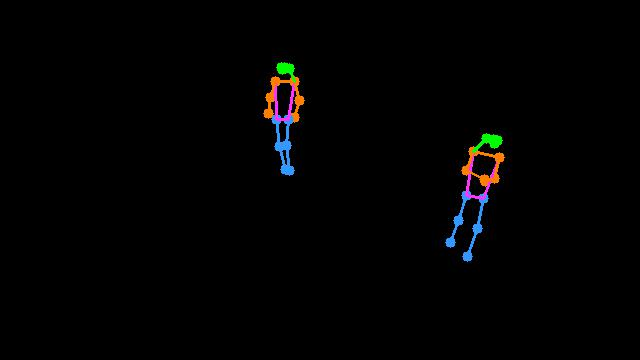normal: (246, 45, 325, 197)
